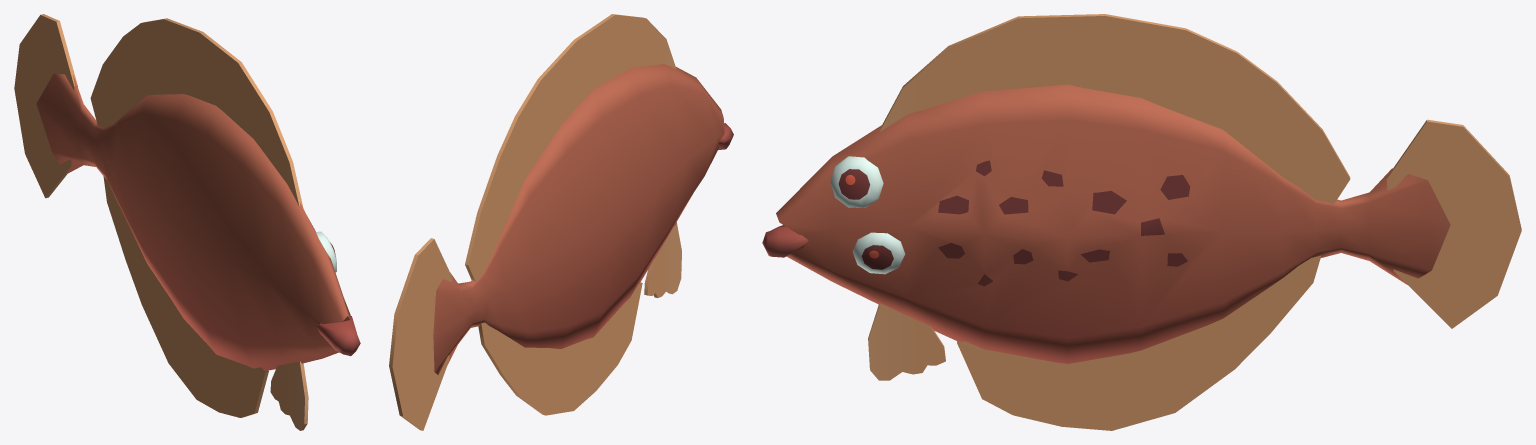
3 renders of one model, left to right at view 1: azimuth 30°, elevation 25°; view 2: azimuth 150°, elevation 25°; view 3: azimuth 270°, elevation 25°, orthographic. The views are drawn at different scales.
Parts seen in each view (by area): view 1: Fish_Plaice; view 2: Fish_Plaice; view 3: Fish_Plaice.
Part boxes in pixels (bbox=[...]): Fish_Plaice: bbox=[14, 14, 360, 430]; Fish_Plaice: bbox=[389, 14, 733, 430]; Fish_Plaice: bbox=[762, 14, 1521, 430].
Bounding box in the file's own units: 4.86 × 29.8 × 49.41.
